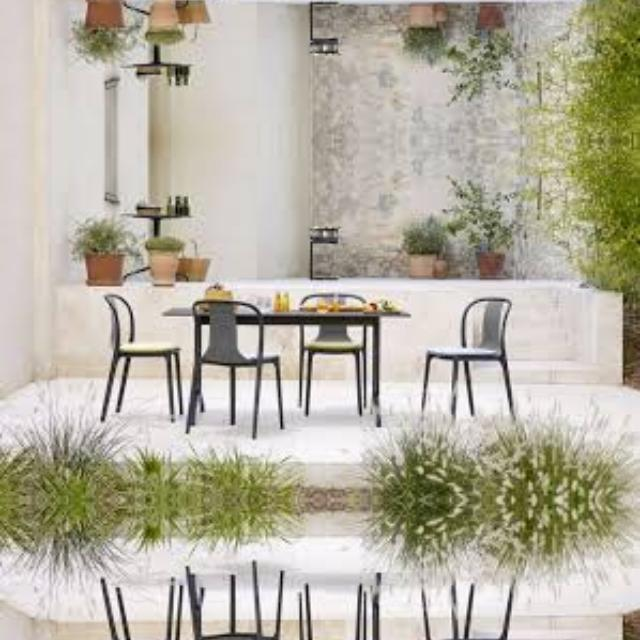obstacle: (419, 289, 527, 426), (79, 287, 185, 423), (419, 572, 527, 640), (79, 577, 185, 640)
